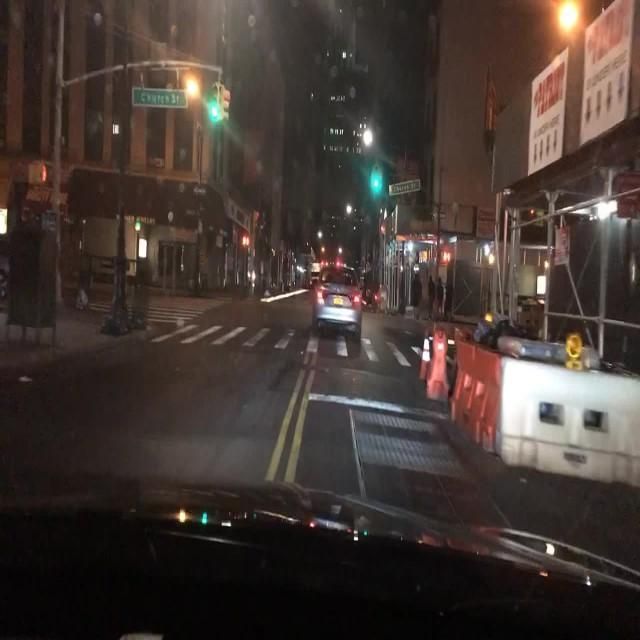normal: (302, 255, 376, 345)
